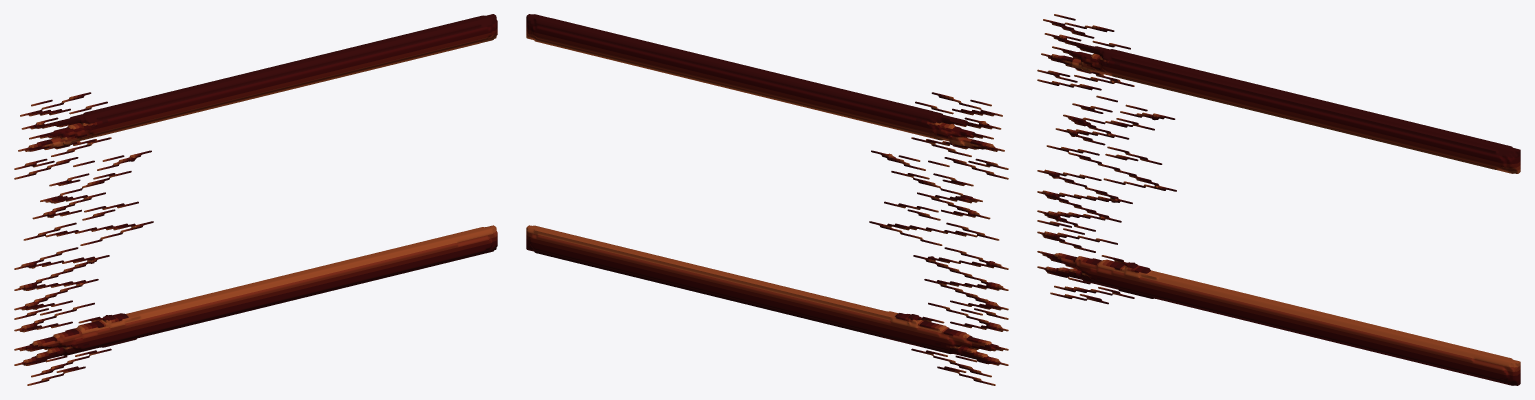
File: Fight_101_3_11.obj
3 views of the same model, side by side, from view 1: azimuth 30°, elevation 25°; view 2: azimuth 150°, elevation 25°; view 3: azimuth 330°, elevation 25° (orthographic).
Bounding box in the file's own units: 26.18 × 14.57 × 1.
Materials: 1 (1 with a texture image).
